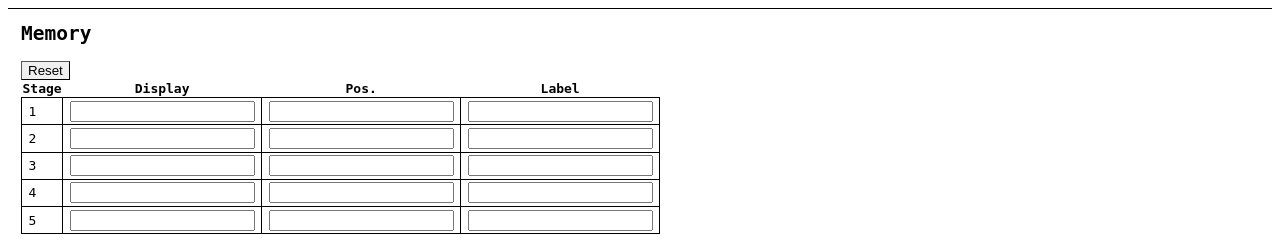
Test: MemoryModule › resets all fields when reset button is clicked
Type "1" into the field named "Stage 1 display" at x=162, y=111, box [70,101,255,122]
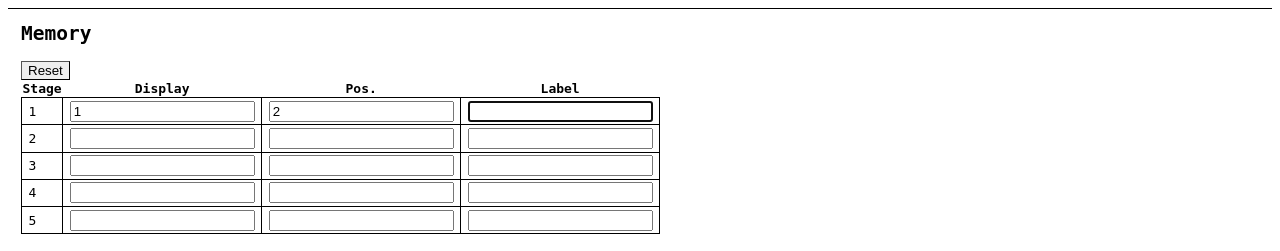
Type "2" into the field named "Stage 1 label" at x=560, y=111, box [468,101,653,122]
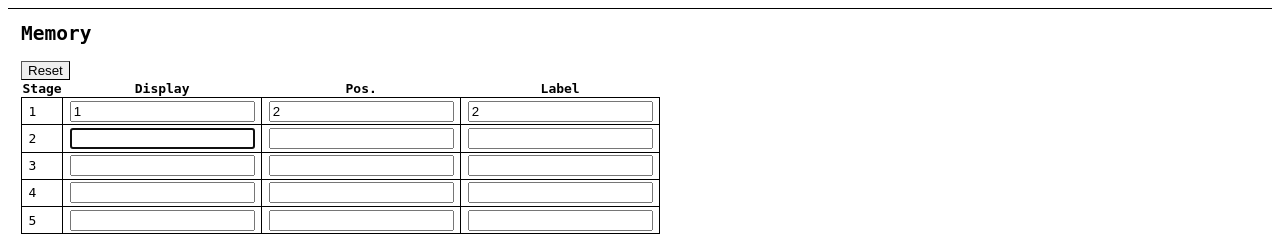
Click the button "Reset" at x=45, y=71, box [21,61,70,80]
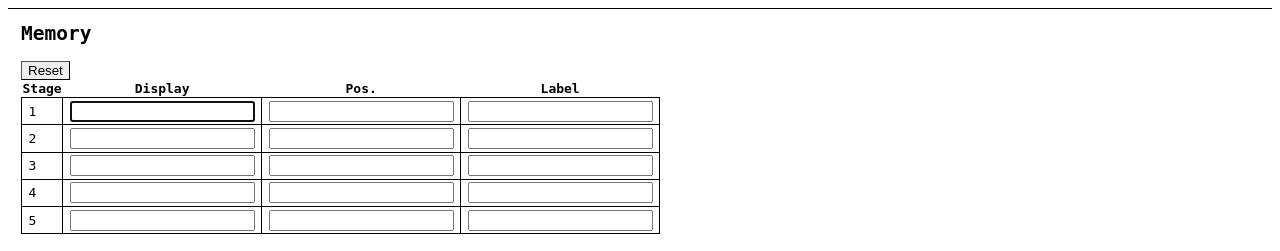
Expected: the field named "Stage 1 display" is empty, [70,101,255,122]
Expected: the field named "Stage 1 label" is empty, [468,101,653,122]
